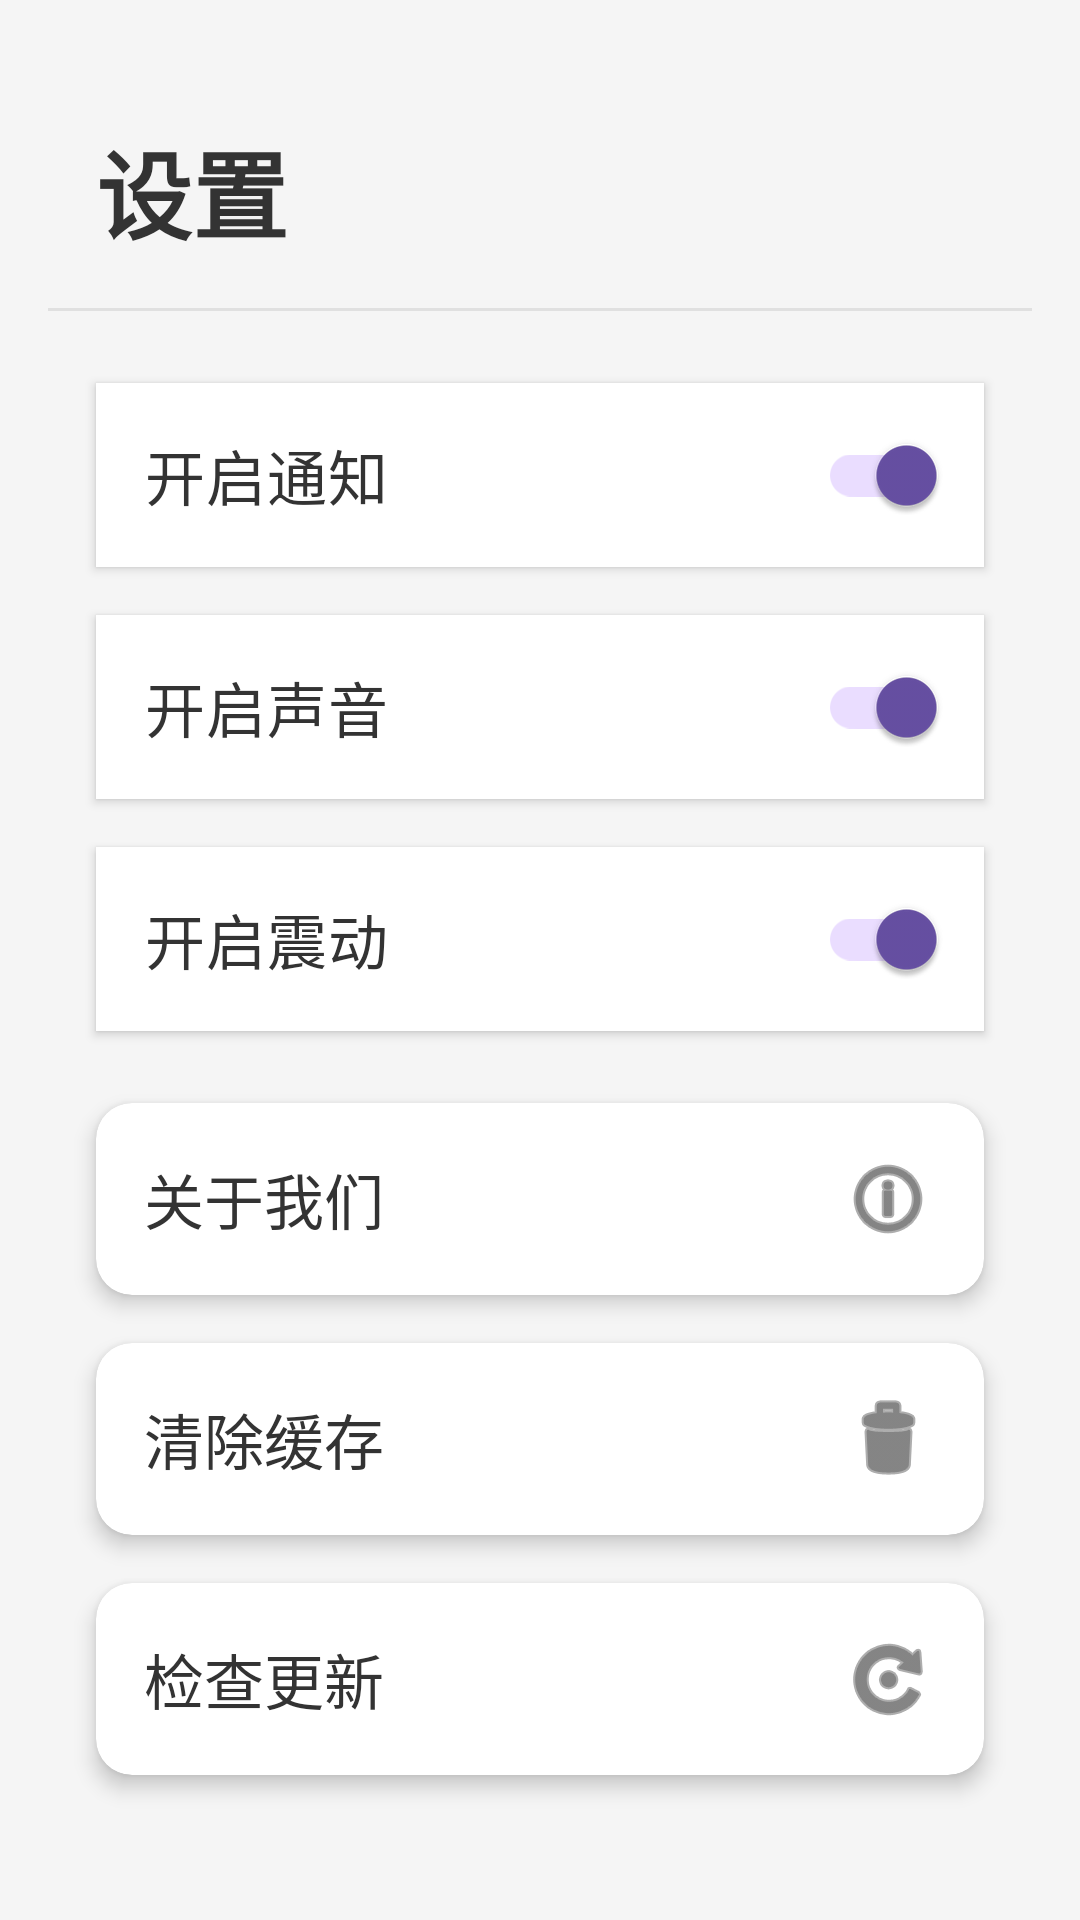

Where icons sit on this 1080w x 1920h app screen, as (x1, y1, x2, y2):
delete: (861, 1400, 916, 1475)
info details: (853, 1165, 923, 1234)
rotate: (853, 1644, 923, 1715)
